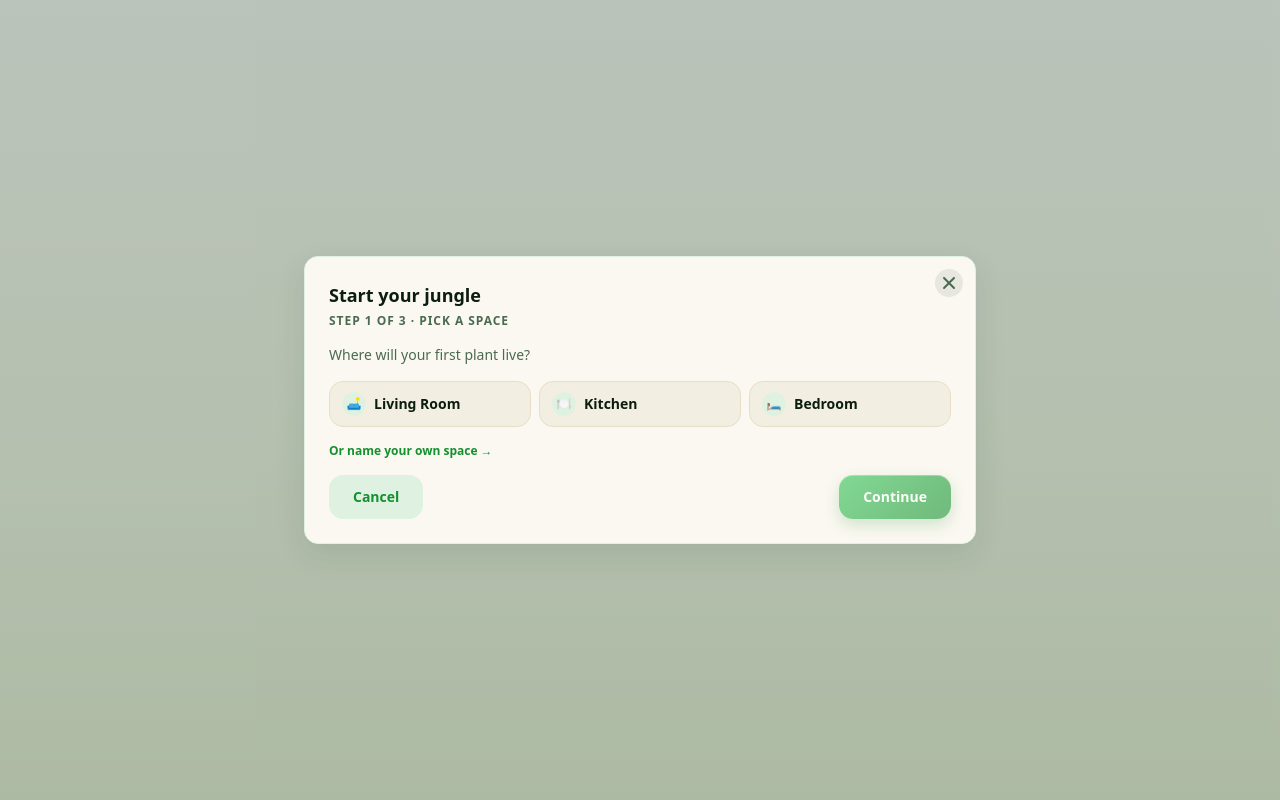
Test: StartJungleDialog › preserves preset selection when navigating back from species step
The image size is (1280, 800).
Step 1. Click the checkbox labelled "🍽️ Kitchen" → coordinates (640, 404), box [540,382,740,426]
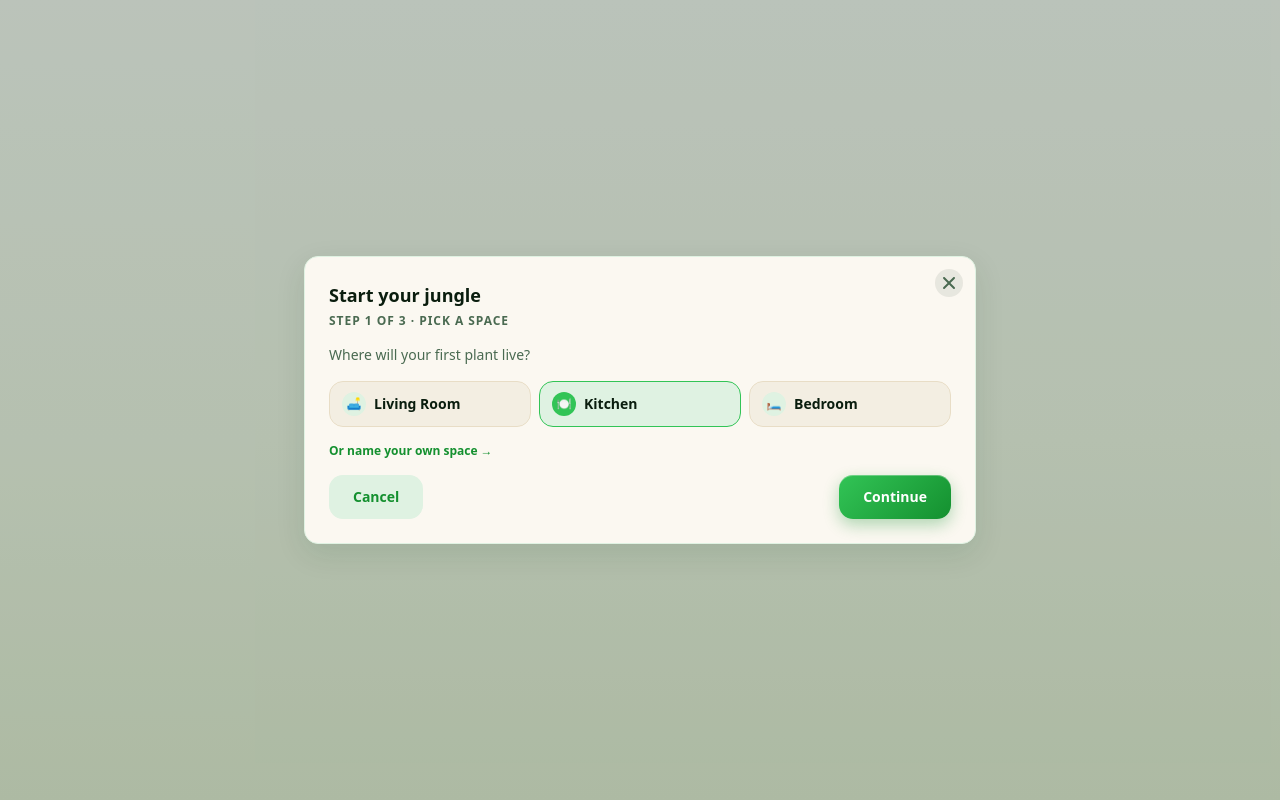
Step 2. Click the button "Continue" → coordinates (895, 497), box [839,475,951,519]
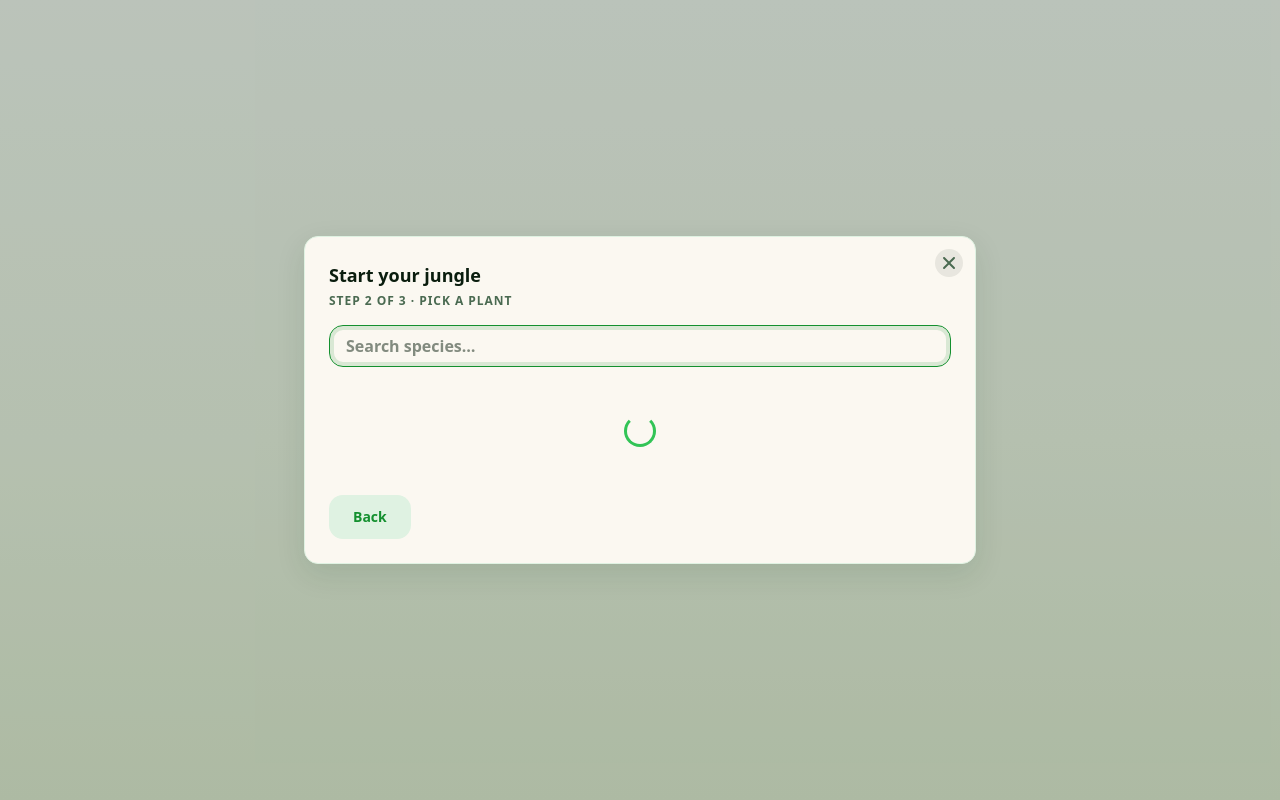
Now the text "Step 2 of 3 · Pick a plant" is shown, box [329,292,512,309]
Step 3. Click the button "Back" → coordinates (370, 517), box [329,495,411,539]
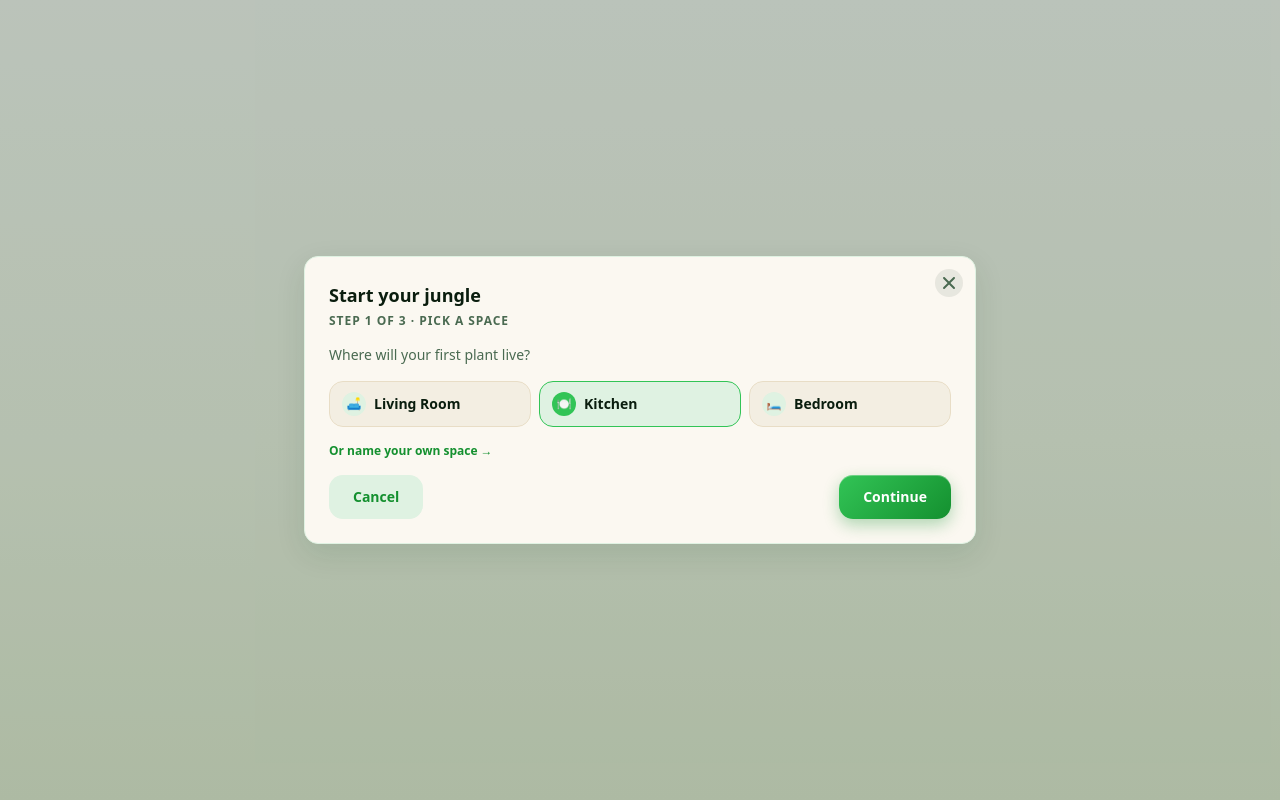
Now the text "Step 1 of 3 · Pick a space" is shown, box [329,312,509,329]
